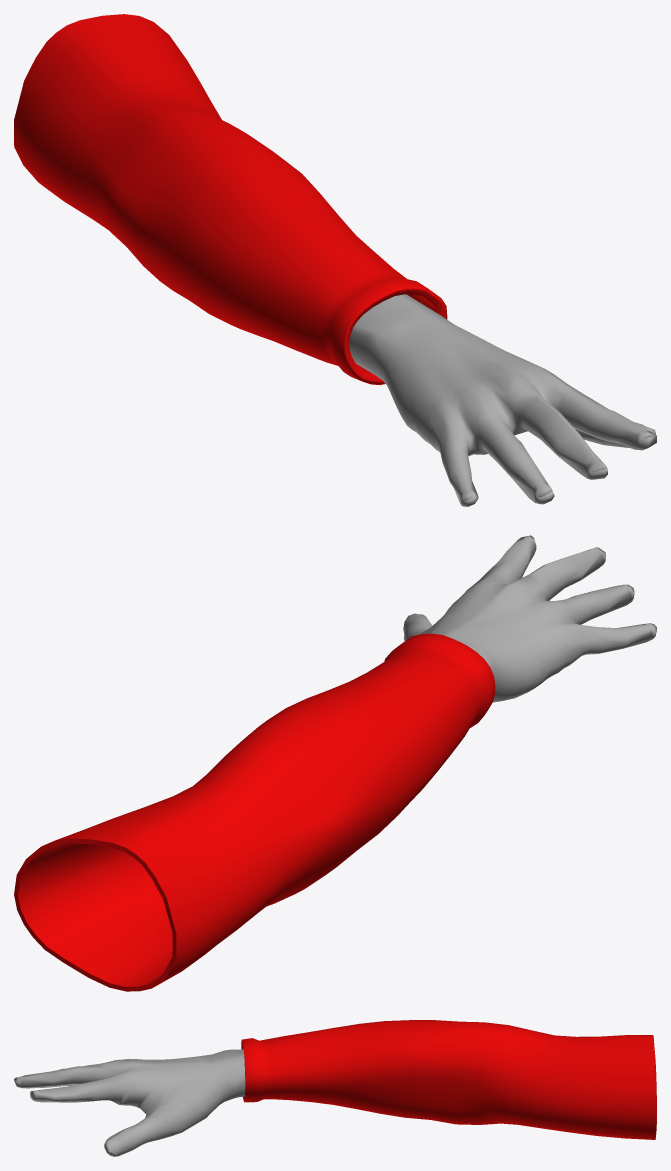
Rendered from Nils_Bras_Low.fbx.
The picture shows the model from 3 angles, top to bottom: view 1: azimuth 30°, elevation 25°; view 2: azimuth 150°, elevation 25°; view 3: azimuth 270°, elevation 25°; orthographic projection. The views are drawn at different scales.
Visible parts, largest first — view 1: Low; view 2: Low; view 3: Low.
Boxes of the visible parts, left/top/right/bottom form: Low: left=14, top=14, right=656, bottom=506; Low: left=14, top=535, right=656, bottom=991; Low: left=14, top=1020, right=656, bottom=1156.
Size of the model in its own units: 0.1957 by 0.1331 by 0.7583.
